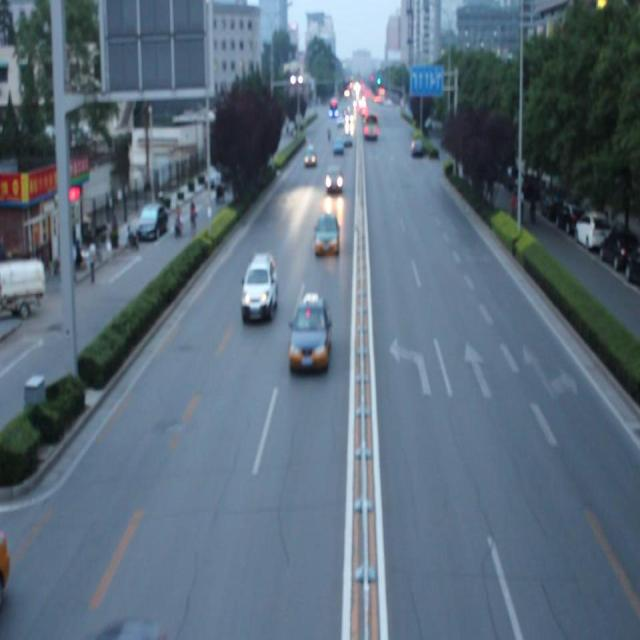car: (287, 294, 330, 372), (242, 252, 276, 317), (312, 210, 340, 258), (325, 164, 344, 195)
